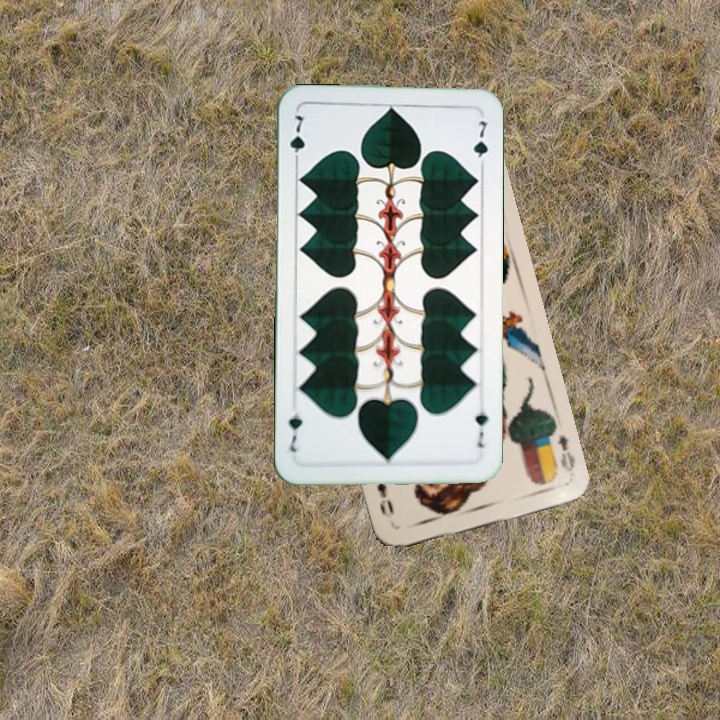EO: (553, 432, 578, 474)
G7: (286, 111, 308, 168), (471, 408, 491, 451)
